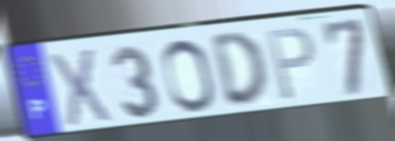3: (109, 42, 161, 122)
7: (318, 15, 367, 98)
D: (208, 29, 270, 109)
O: (159, 37, 219, 114)
P: (265, 25, 316, 104)
X: (48, 46, 114, 129)
